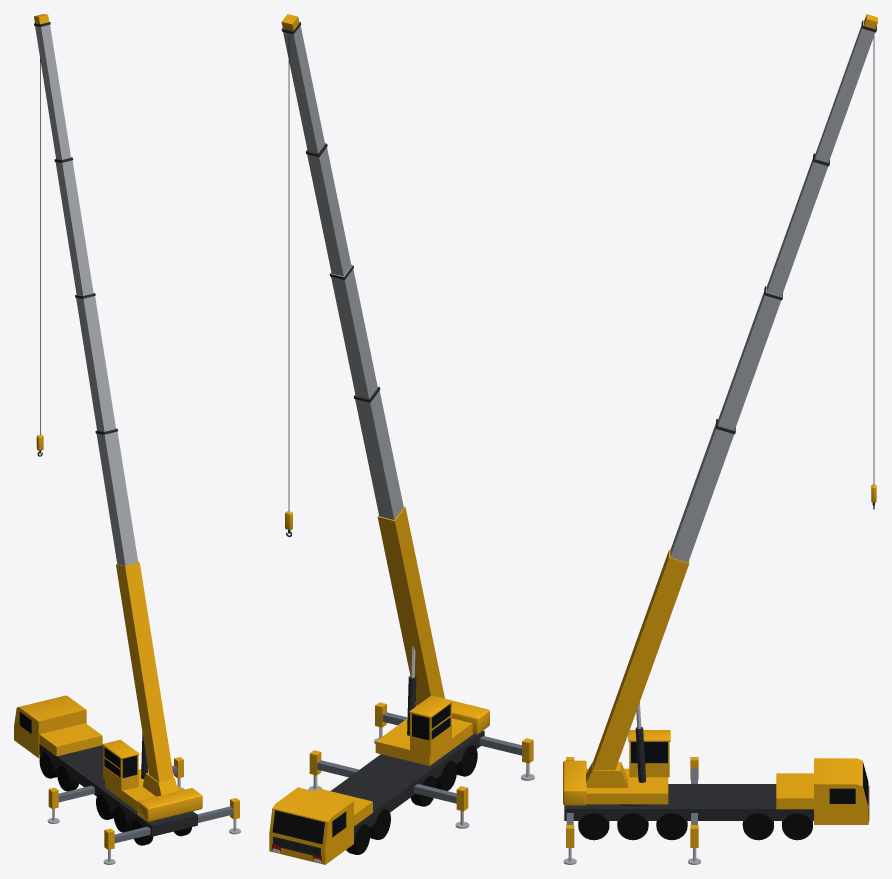
Rendered from plant.lifting.mobile_crane_5_axle.glb.
The picture shows the model from 3 angles, left to right: view 1: azimuth 30°, elevation 25°; view 2: azimuth 150°, elevation 25°; view 3: azimuth 270°, elevation 25°; orthographic projection. The views are drawn at different scales.
Parts seen in each view (by area): view 1: boom__steel_galvanised, boom__plant_yellow, carrier__plant_yellow, upper__plant_yellow, carrier__steel_dark, wheels__rubber, outriggers__steel_painted, outriggers__plant_yellow, upper__glass_dark, boom__steel_dark; view 2: boom__steel_galvanised, boom__plant_yellow, carrier__steel_dark, upper__plant_yellow, carrier__plant_yellow, wheels__rubber, outriggers__steel_painted, carrier__glass_dark, outriggers__plant_yellow, hook__steel_dark, upper__glass_dark, boom__steel_dark; view 3: boom__steel_galvanised, boom__plant_yellow, carrier__steel_dark, upper__plant_yellow, carrier__plant_yellow, wheels__rubber, hook__steel_dark, boom__steel_dark, upper__glass_dark.
Boxes of the visible parts, left/top/right/bottom form: boom__steel_galvanised: left=35, top=22, right=138, bottom=565; boom__plant_yellow: left=34, top=14, right=173, bottom=782; carrier__plant_yellow: left=14, top=695, right=102, bottom=757; upper__plant_yellow: left=102, top=739, right=202, bottom=821; carrier__steel_dark: left=39, top=744, right=197, bottom=836; wheels__rubber: left=39, top=752, right=191, bottom=845; outriggers__steel_painted: left=58, top=765, right=233, bottom=843; outriggers__plant_yellow: left=48, top=757, right=239, bottom=849; upper__glass_dark: left=104, top=747, right=137, bottom=778; boom__steel_dark: left=34, top=22, right=147, bottom=779; boom__steel_galvanised: left=283, top=22, right=403, bottom=519; boom__plant_yellow: left=281, top=14, right=444, bottom=705; carrier__steel_dark: left=273, top=730, right=484, bottom=857; upper__plant_yellow: left=375, top=695, right=489, bottom=765; carrier__plant_yellow: left=269, top=787, right=372, bottom=864; wheels__rubber: left=346, top=745, right=477, bottom=854; outriggers__steel_painted: left=317, top=712, right=521, bottom=803; carrier__glass_dark: left=272, top=810, right=346, bottom=844; outriggers__plant_yellow: left=309, top=702, right=533, bottom=811; hook__steel_dark: left=286, top=37, right=291, bottom=536; upper__glass_dark: left=412, top=704, right=450, bottom=740; boom__steel_dark: left=281, top=22, right=416, bottom=735; boom__steel_galvanised: left=670, top=21, right=875, bottom=562; boom__plant_yellow: left=593, top=14, right=877, bottom=770; carrier__steel_dark: left=564, top=784, right=869, bottom=820; upper__plant_yellow: left=563, top=730, right=670, bottom=805; carrier__plant_yellow: left=776, top=758, right=868, bottom=824; wheels__rubber: left=578, top=813, right=812, bottom=840; hook__steel_dark: left=872, top=36, right=874, bottom=509; boom__steel_dark: left=635, top=20, right=876, bottom=782; upper__glass_dark: left=631, top=742, right=667, bottom=763.
Bounding box in the file's own units: 7.35 × 37.93 × 13.29.
